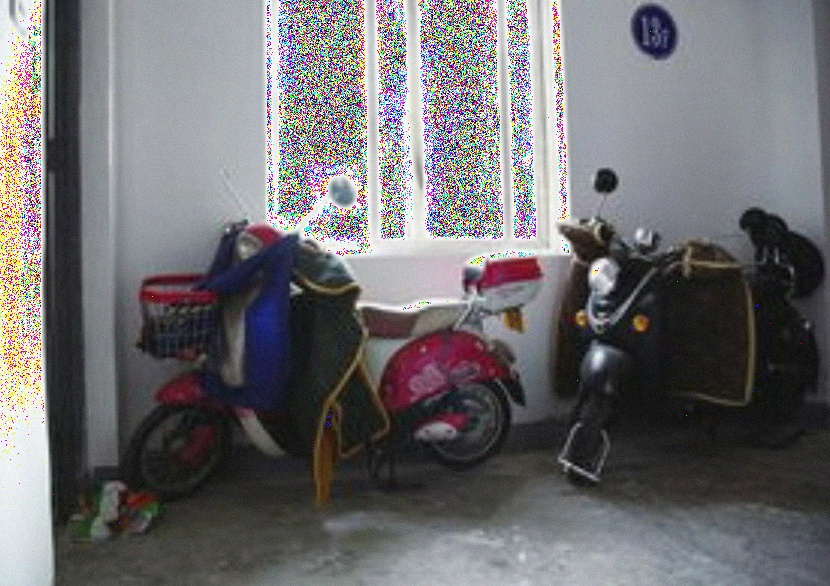ebike: (122, 167, 542, 484), (555, 166, 824, 473)
